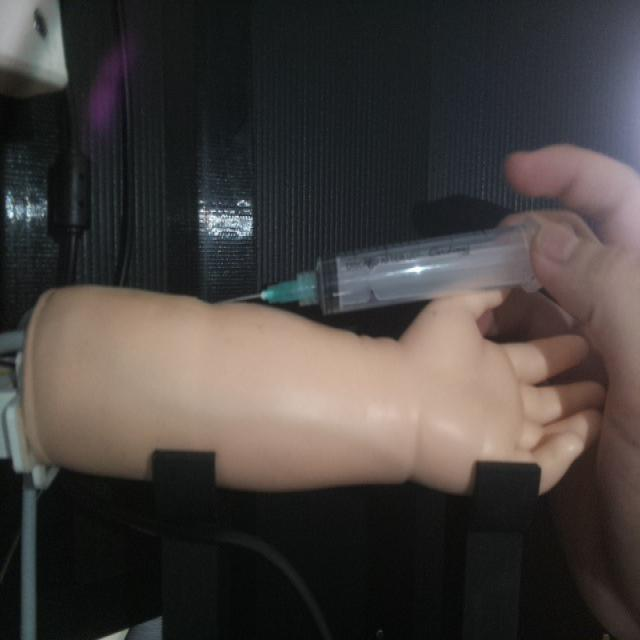Outside: (209, 207, 577, 307)
